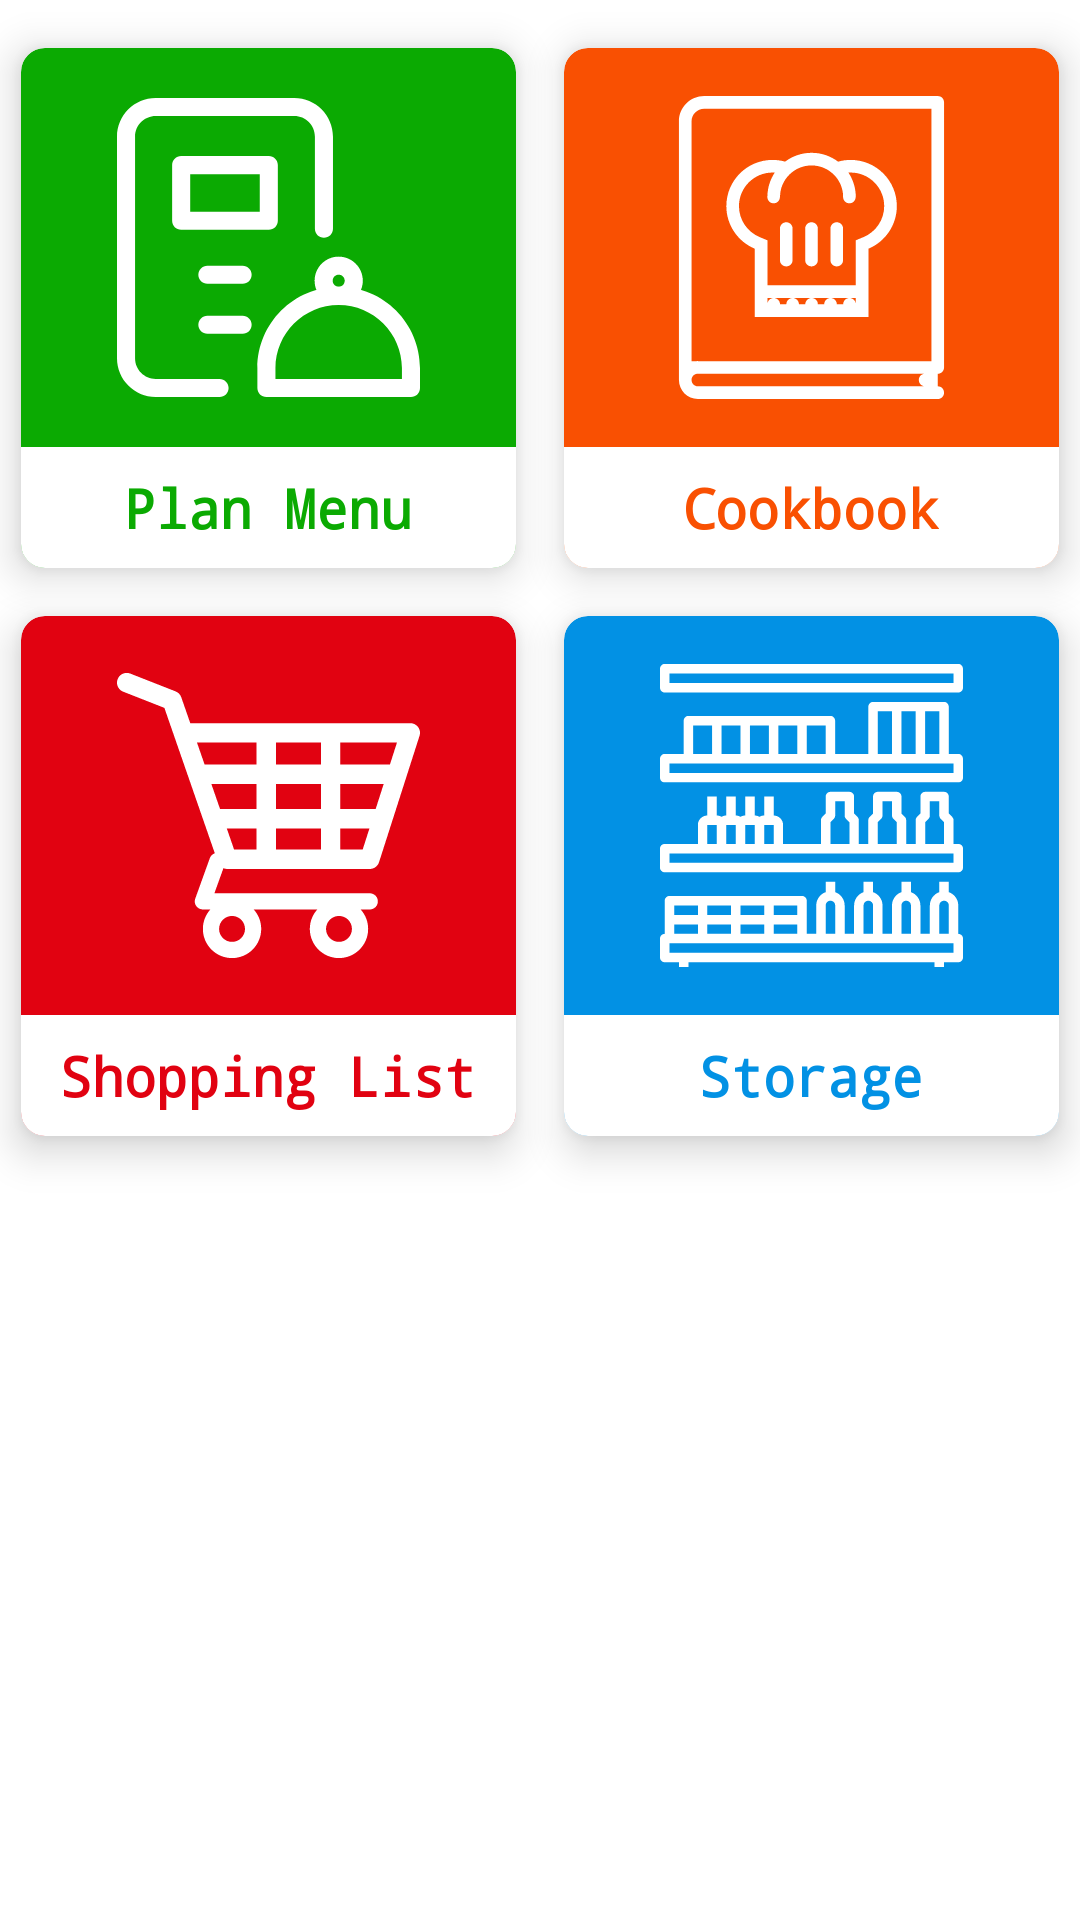

Named icons in this screenshot (1080 × 1920) and their bounding boxes, (x1, y1, x2, y2):
recipe: (679, 96, 944, 399)
